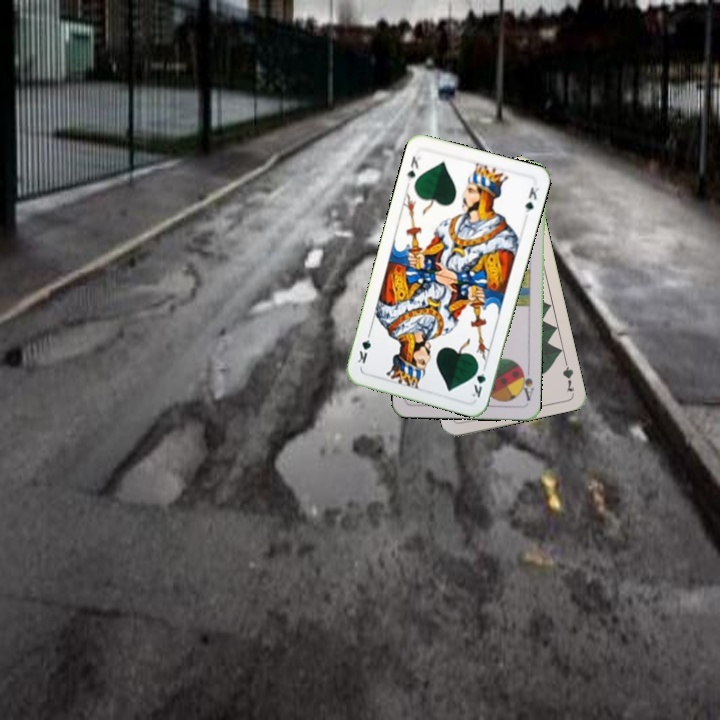G7: (558, 354, 577, 395)
GK: (468, 360, 489, 400), (403, 152, 423, 184)
SA: (516, 364, 536, 403)
